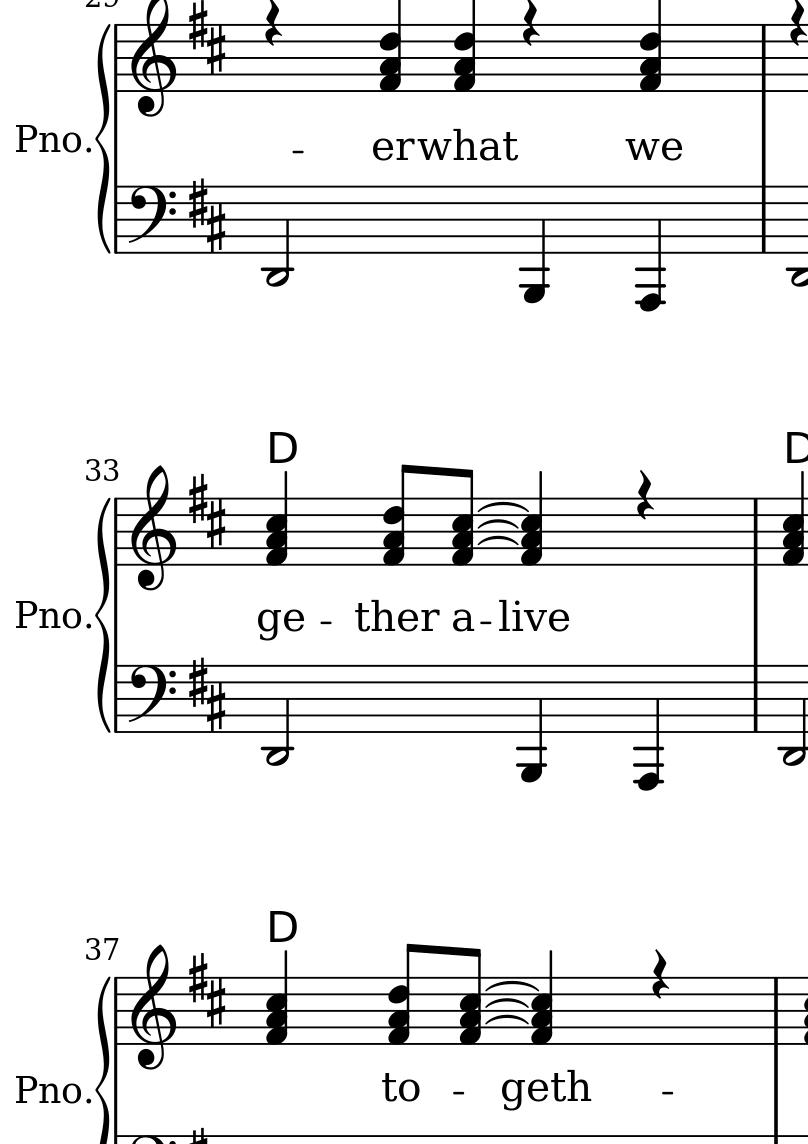2_-3: (774, 661, 807, 767), (262, 184, 295, 289), (263, 663, 294, 766)
3: (84, 454, 104, 485), (82, 935, 101, 964), (104, 453, 119, 484)
4_-5: (518, 662, 546, 783)
4_-6: (631, 662, 666, 792), (633, 183, 665, 312)
4_th: (266, 941, 293, 1050), (638, 1, 667, 95), (377, 1, 406, 91), (451, 1, 477, 97), (782, 470, 807, 569), (265, 471, 290, 565), (531, 950, 555, 1045), (522, 468, 545, 565)
7: (102, 935, 121, 962)
8_-5: (519, 182, 551, 307)
8_th: (380, 461, 425, 568), (386, 941, 421, 1053), (450, 463, 476, 571), (458, 947, 484, 1052)
Brace: (93, 22, 110, 255)
D_S: (185, 953, 232, 1028), (187, 474, 230, 551), (186, 1, 229, 76), (188, 654, 227, 733), (186, 177, 225, 252)
Fclef: (126, 663, 178, 735), (126, 183, 176, 257)
Gclef: (129, 464, 177, 591), (129, 1, 176, 127), (130, 944, 175, 1073)
Pno: (12, 1065, 84, 1109), (10, 119, 80, 161), (15, 596, 84, 637)
Rests4: (518, 1, 542, 50), (260, 1, 283, 50), (635, 468, 655, 522), (651, 944, 670, 1000)
Single_barline: (766, 978, 787, 1044), (753, 26, 773, 91), (753, 185, 772, 253), (747, 498, 765, 565), (747, 665, 765, 732), (110, 185, 127, 252), (110, 978, 126, 1045), (110, 666, 126, 731), (111, 497, 126, 566), (111, 25, 125, 93)
Slur: (477, 500, 533, 513), (484, 980, 543, 991), (488, 1014, 530, 1027), (485, 997, 529, 1009), (478, 518, 520, 529), (478, 535, 519, 546)
